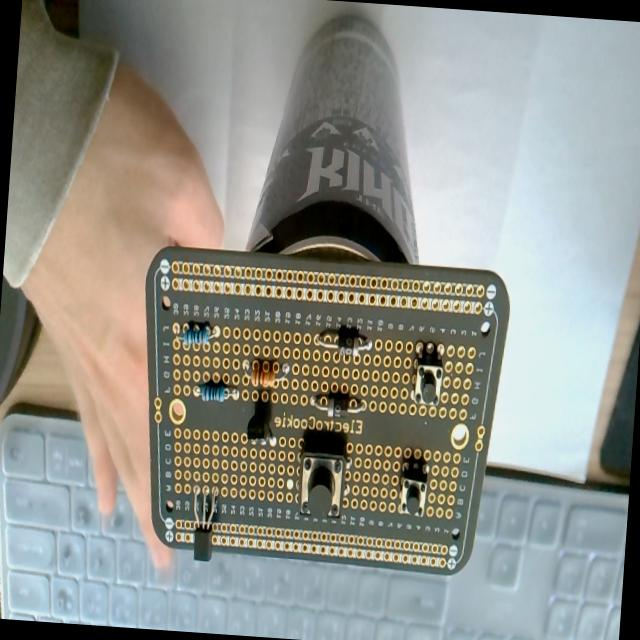diode: (316, 326, 372, 356), (310, 392, 364, 421)
resistor: (180, 321, 218, 348), (192, 381, 236, 403), (251, 360, 279, 388)
switch: (296, 438, 349, 520), (411, 342, 445, 407), (397, 460, 429, 518)
transistor: (190, 488, 218, 562), (245, 393, 280, 447)
